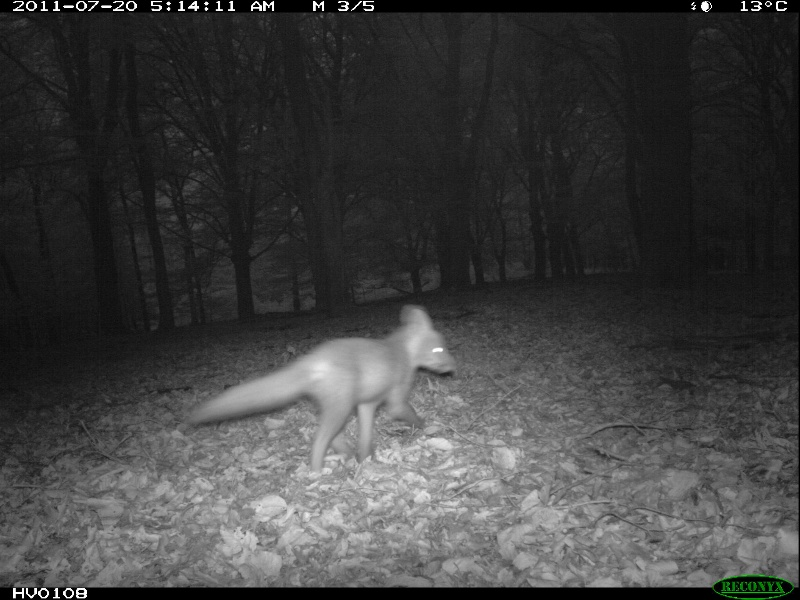fox: (192, 305, 456, 480)
